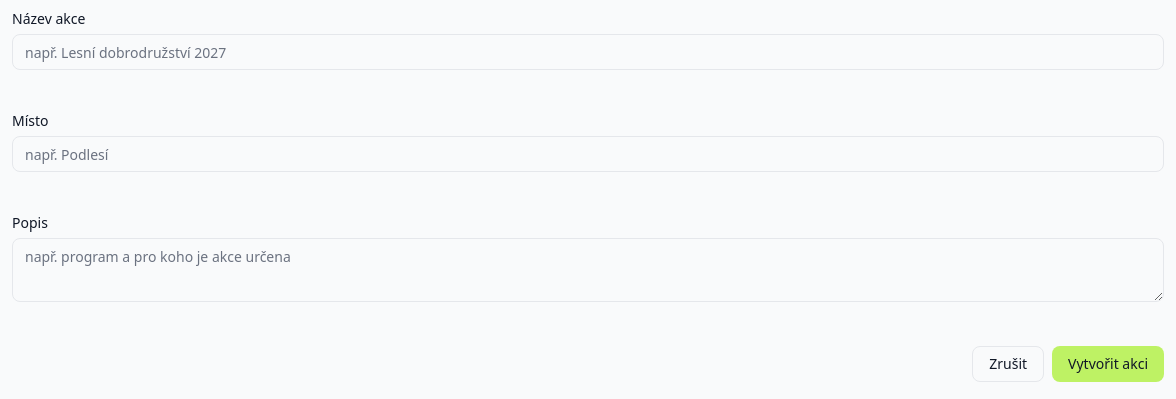
Test: EventForm › requires name, location and description
What coordinates should you click on to do the following:
click the button "Vytvořit akci"
I would click on:
 (1108, 364)
Its box is [1052, 346, 1164, 382].
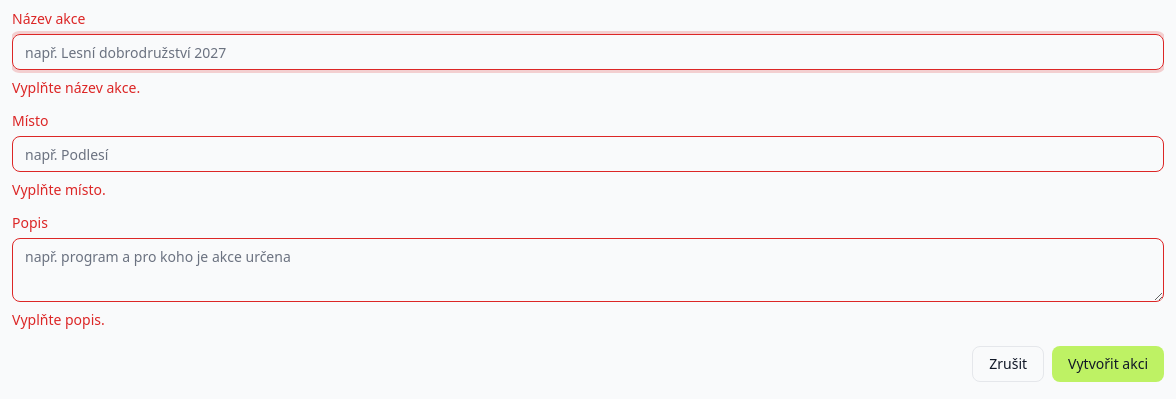
Check: the text "Vyplňte název akce." is shown, box [12, 78, 140, 97]
Check: the text "Vyplňte místo." is shown, box [12, 180, 106, 199]
Check: the text "Vyplňte popis." is shown, box [12, 310, 105, 329]
